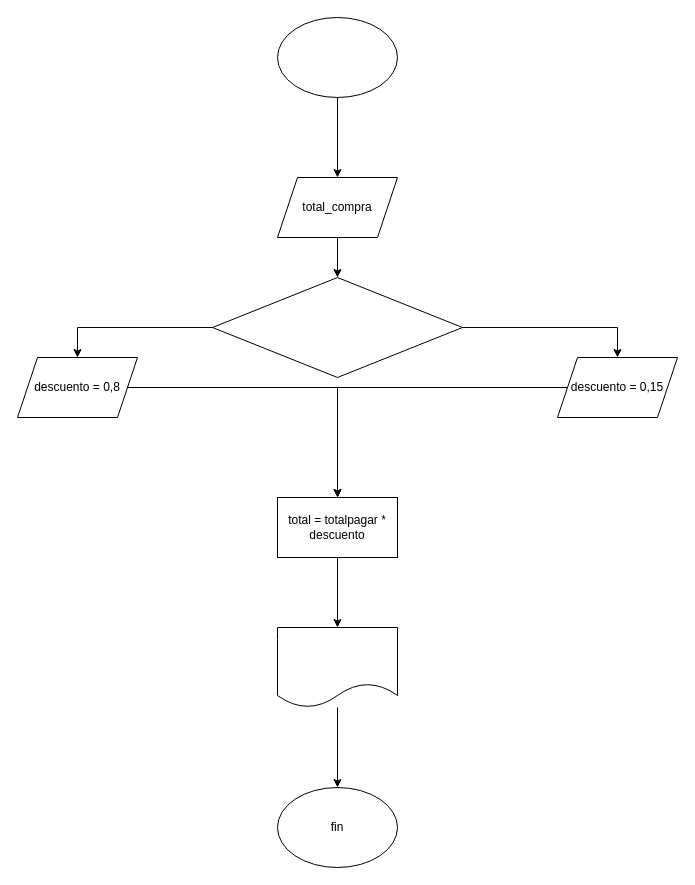
Image size: 695x885. Some labels were removed from this diagram. Here are the shapes that lost their labels. From the top down, the centre of each, then its label:
point 337,57: inicio
point 337,327: total_compra > $250.000
point 337,667: print "precio total"
